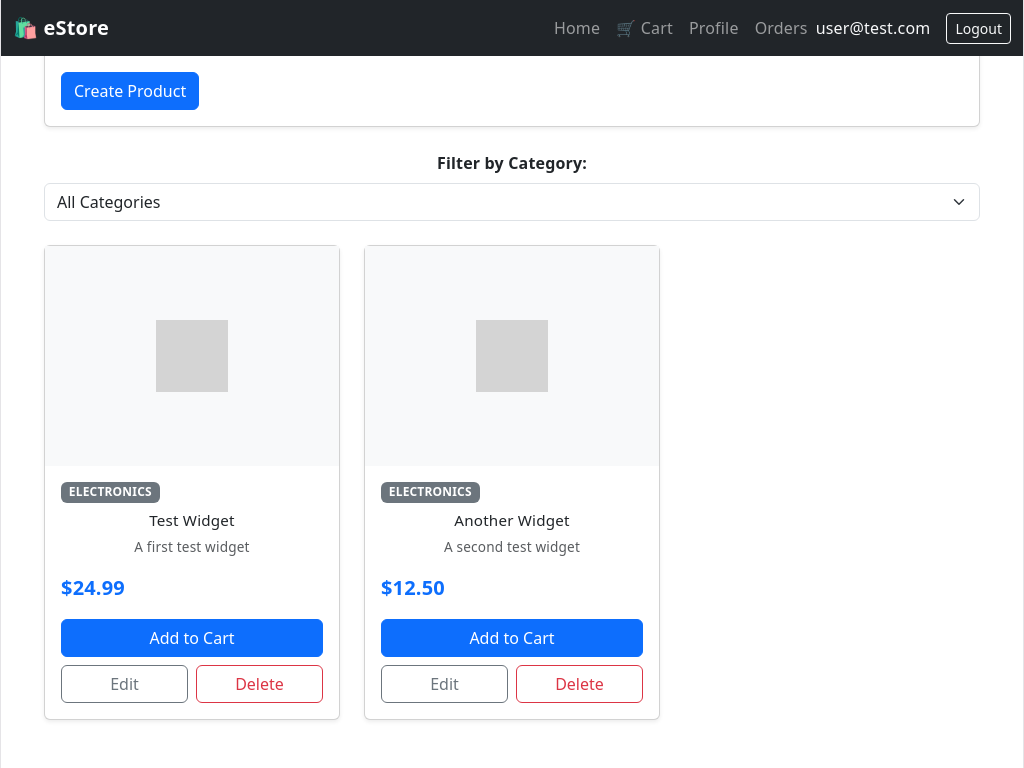
Scenario: Cart integration: adding products from the Home page › Cart page shows the added product title and price after navigating
(page scrolled)
Click the button "Add to Cart" below "24.99".
click(192, 638)  # box [61,619,323,657]
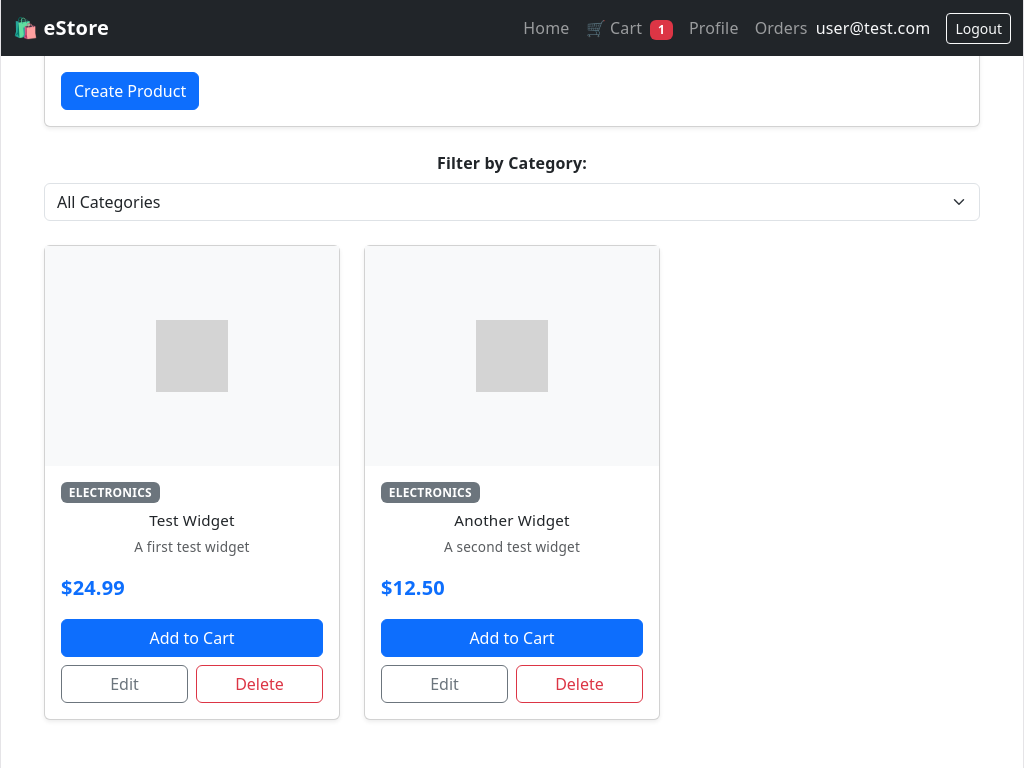
Simulate navigating to /cart via the header link
Click the link "🛒 Cart 1".
click(629, 29)  # box [586,17,673,40]
(page scrolled)
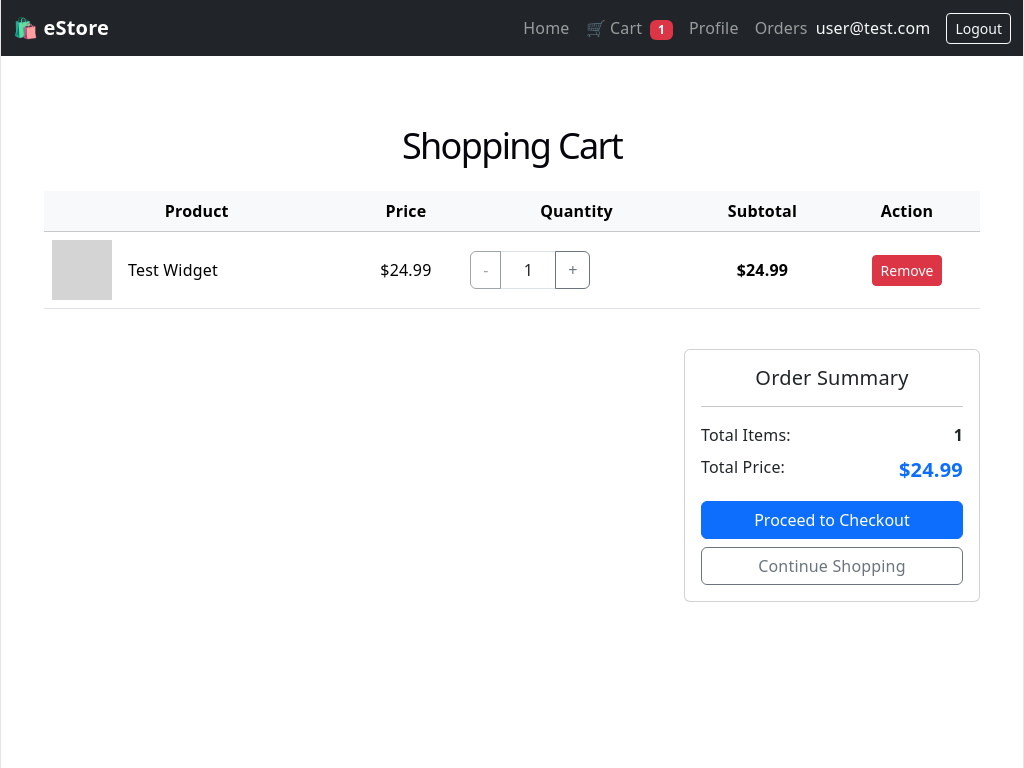
Expected: the text "Test Widget" is shown, [128,258,218,282]
Expected: the button "Add to Cart" is gone
Expected: the text "$24.99" is shown 3 times, [350,232,462,309]; [691,232,834,309]; [899,455,963,485]
